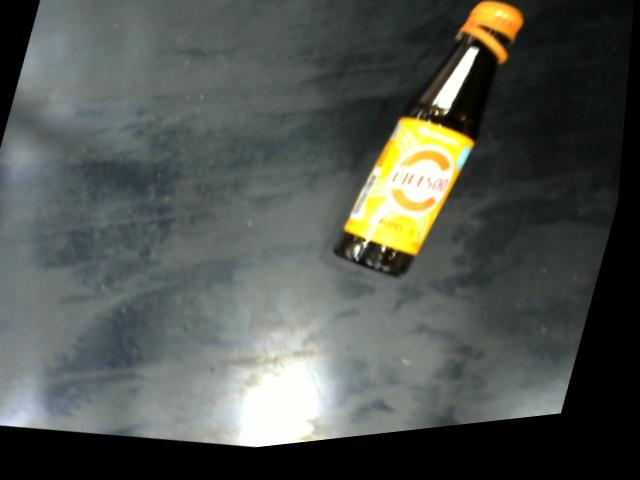glass: (329, 0, 532, 307)
